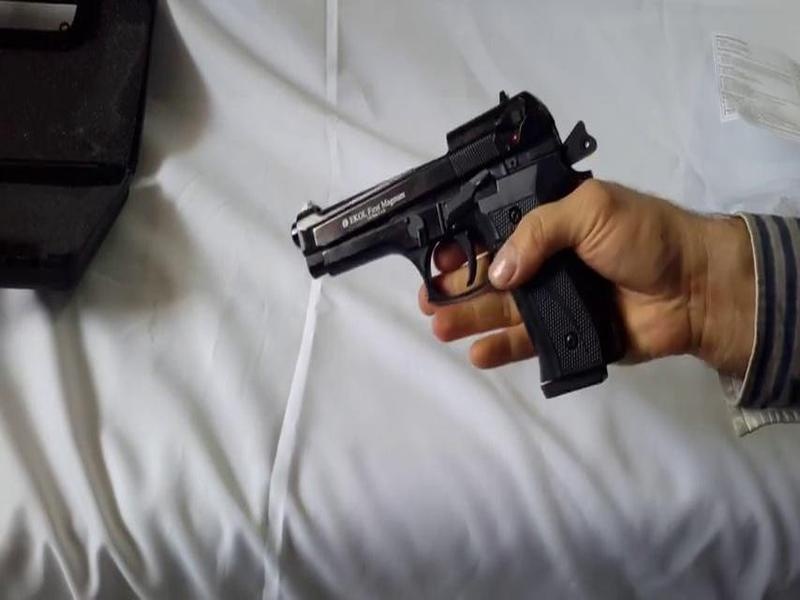Pistola: (267, 82, 614, 419)
